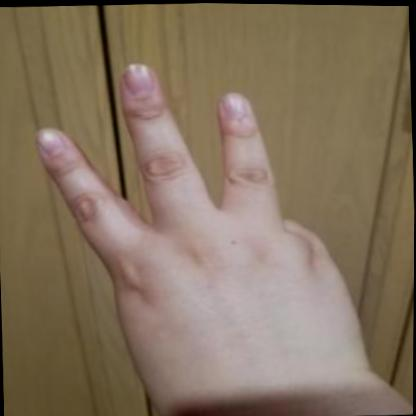W: (13, 32, 391, 416)
